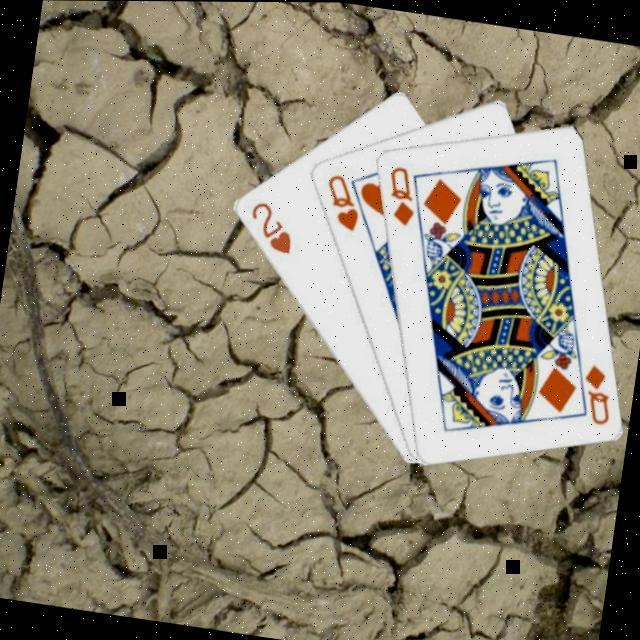2H: (243, 195, 301, 257)
QD: (576, 358, 621, 427), (380, 160, 425, 228)
QH: (319, 167, 368, 234)
